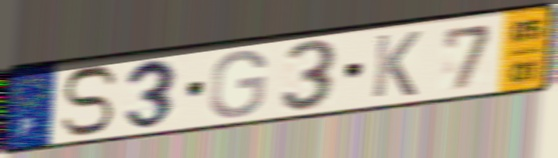3: (121, 55, 185, 134), (277, 37, 342, 113)
7: (441, 20, 494, 92)
G: (206, 47, 270, 121)
K: (368, 28, 424, 100)
S: (56, 63, 121, 139)
